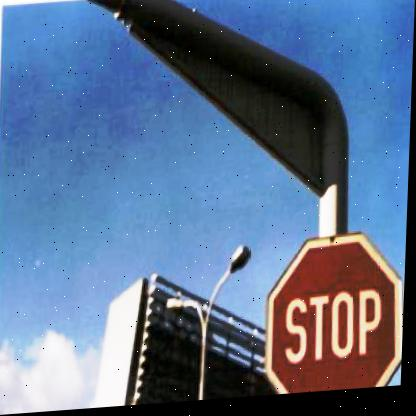Stop Sign: (267, 234, 408, 400)
